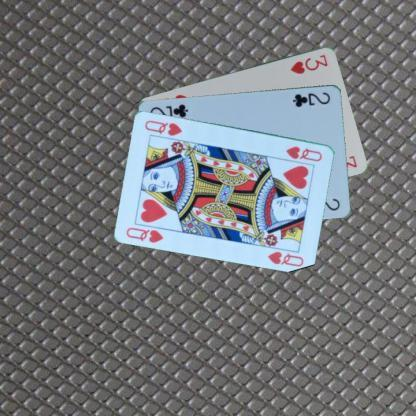2c: (290, 89, 332, 108)
3h: (288, 52, 330, 76)
Qh: (124, 224, 164, 244), (284, 144, 324, 162)
